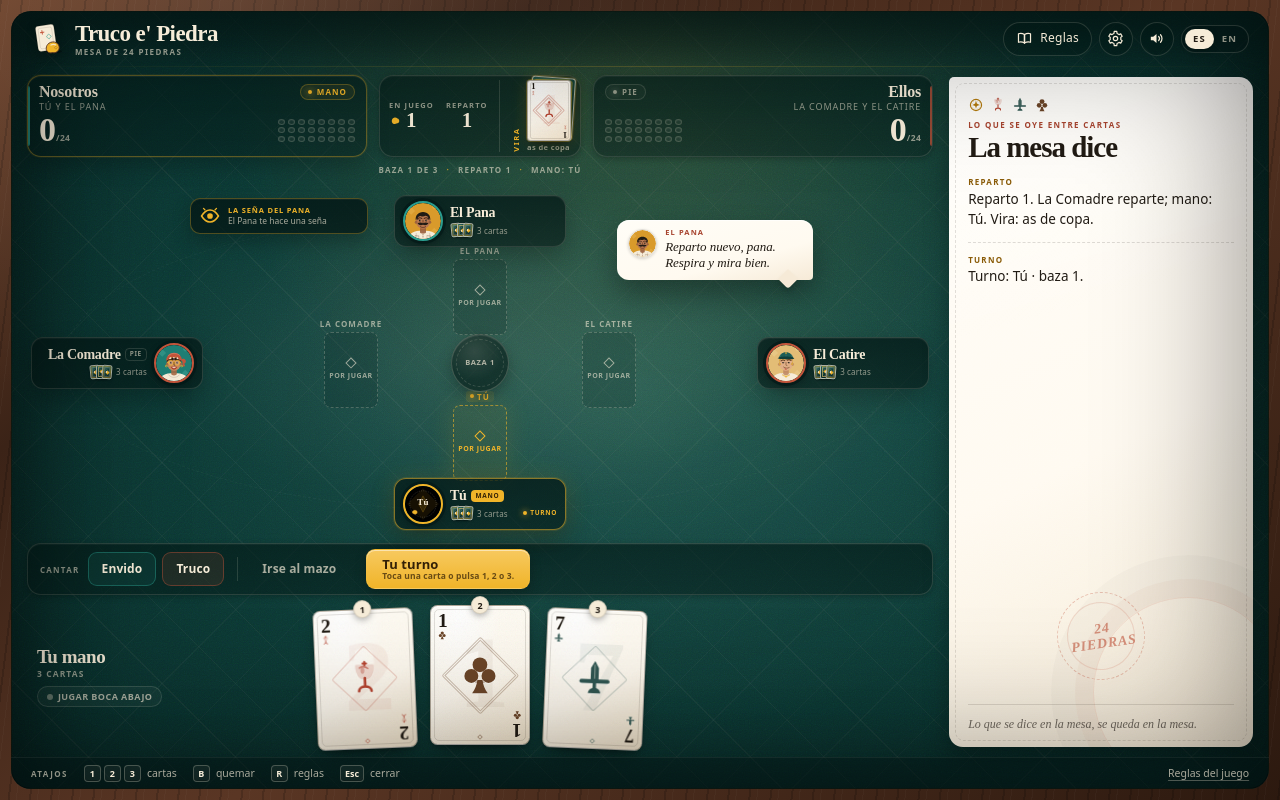
Scenario: the settings panel › remembers language, sound and bot tempo and returns focus to the gear
Click the button named "Abrir los ajustes de la mesa" at (1116,39), box [1099,22,1133,56]
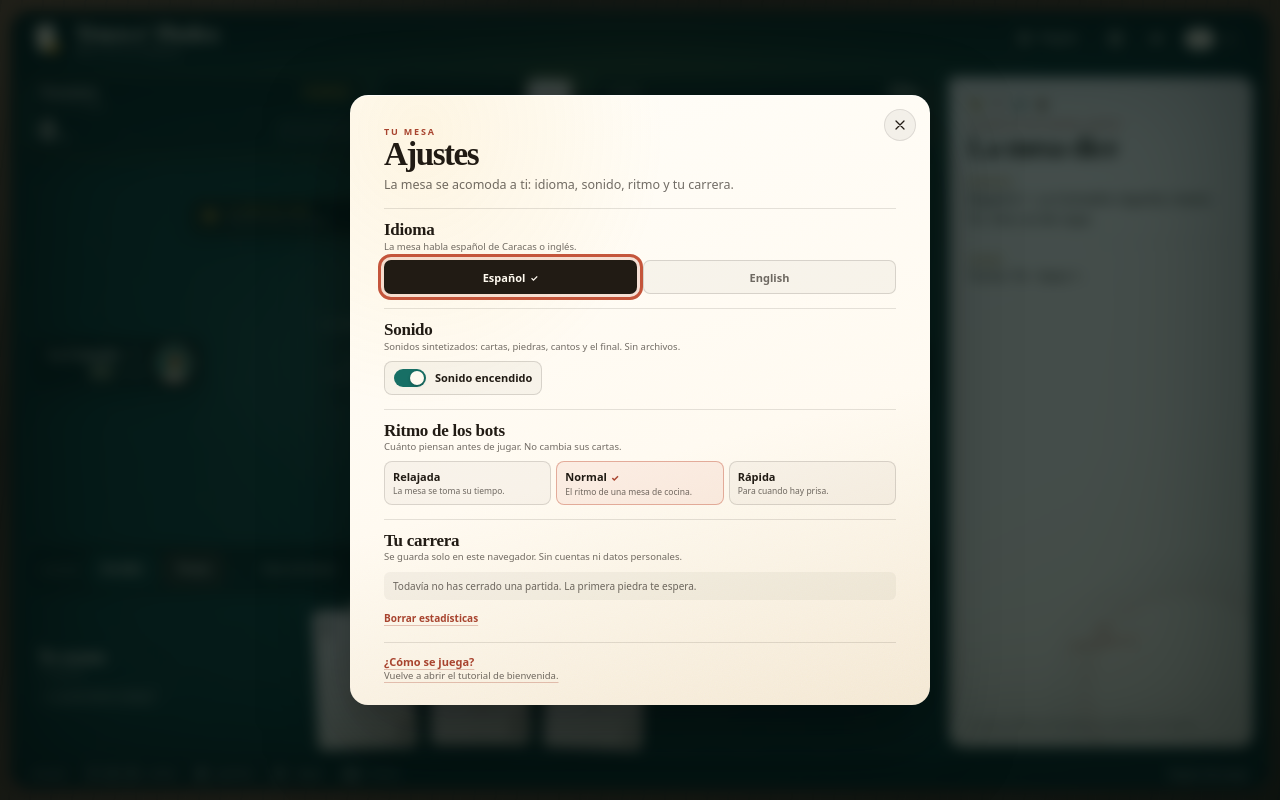
Now the heading "Idioma" is shown, box [384,220,434,239]
Now the heading "Ritmo de los bots" is shown, box [384,421,505,440]
Now the heading "Tu carrera" is shown, box [384,531,459,550]
Click the switch labelled "Sonido encendido" at (463,378), box [384,361,542,395]
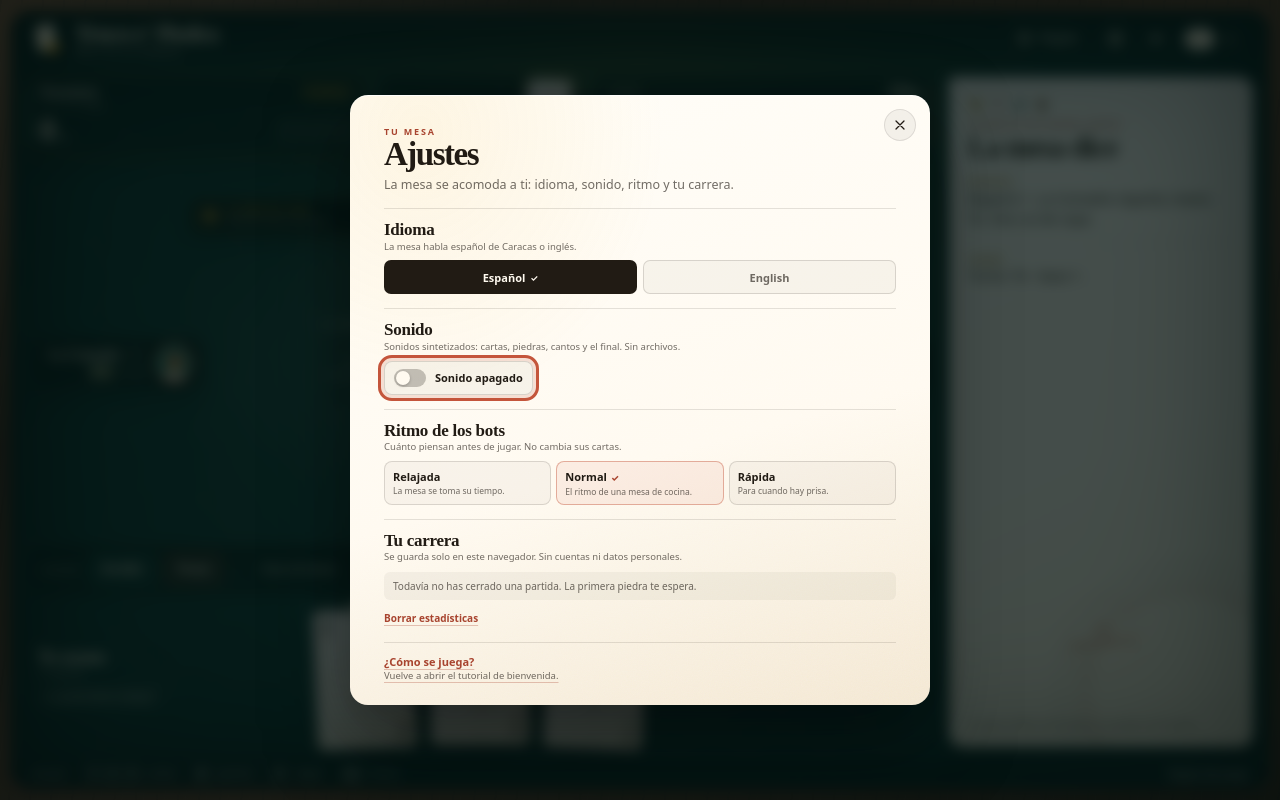
Now the switch labelled "Sonido apagado" is shown, box [384,361,533,395]
Click the radio button labelled "Rápida Para cuando hay prisa." at (812,483), box [729,461,896,505]
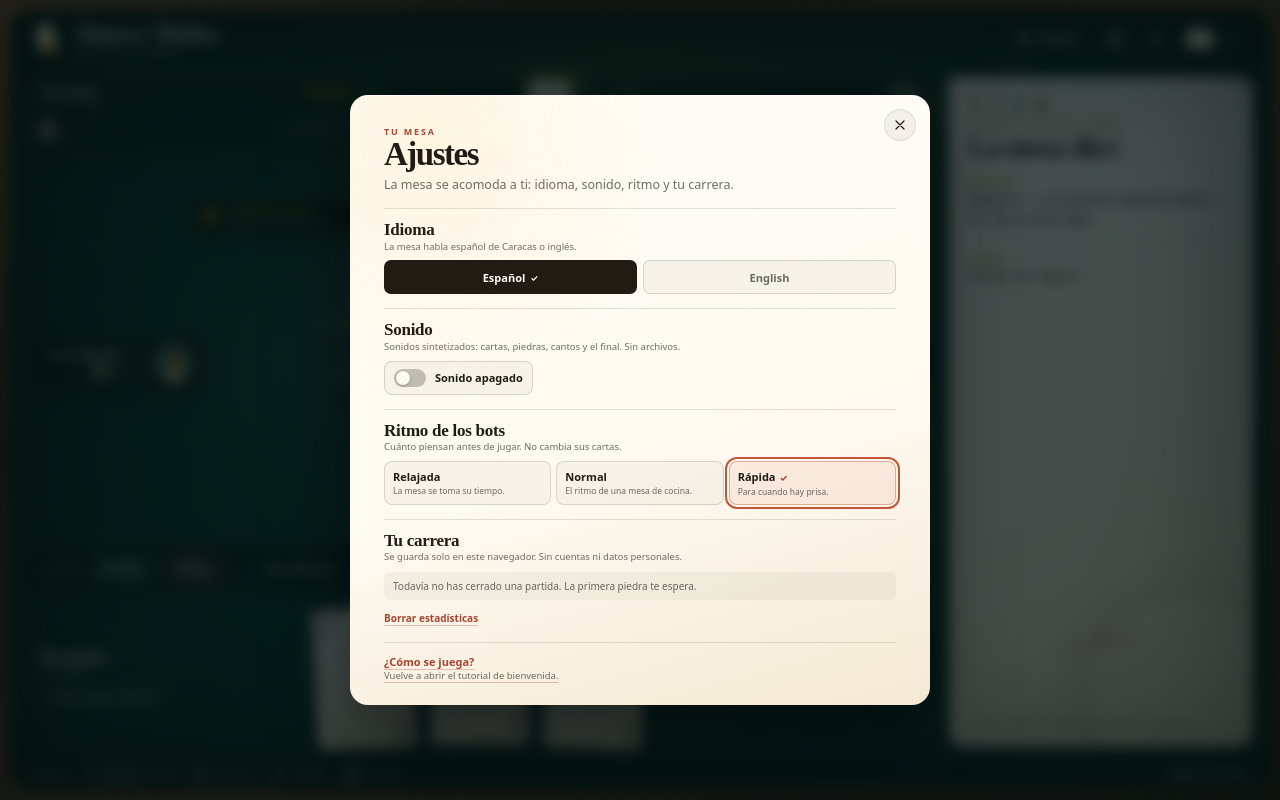
Now the radio button labelled "Rápida✓ Para cuando hay prisa." is checked, box [729,461,896,505]
Click the button with aria-label "Ver la mesa en inglés (EN)" at (770,277), box [643,260,896,294]
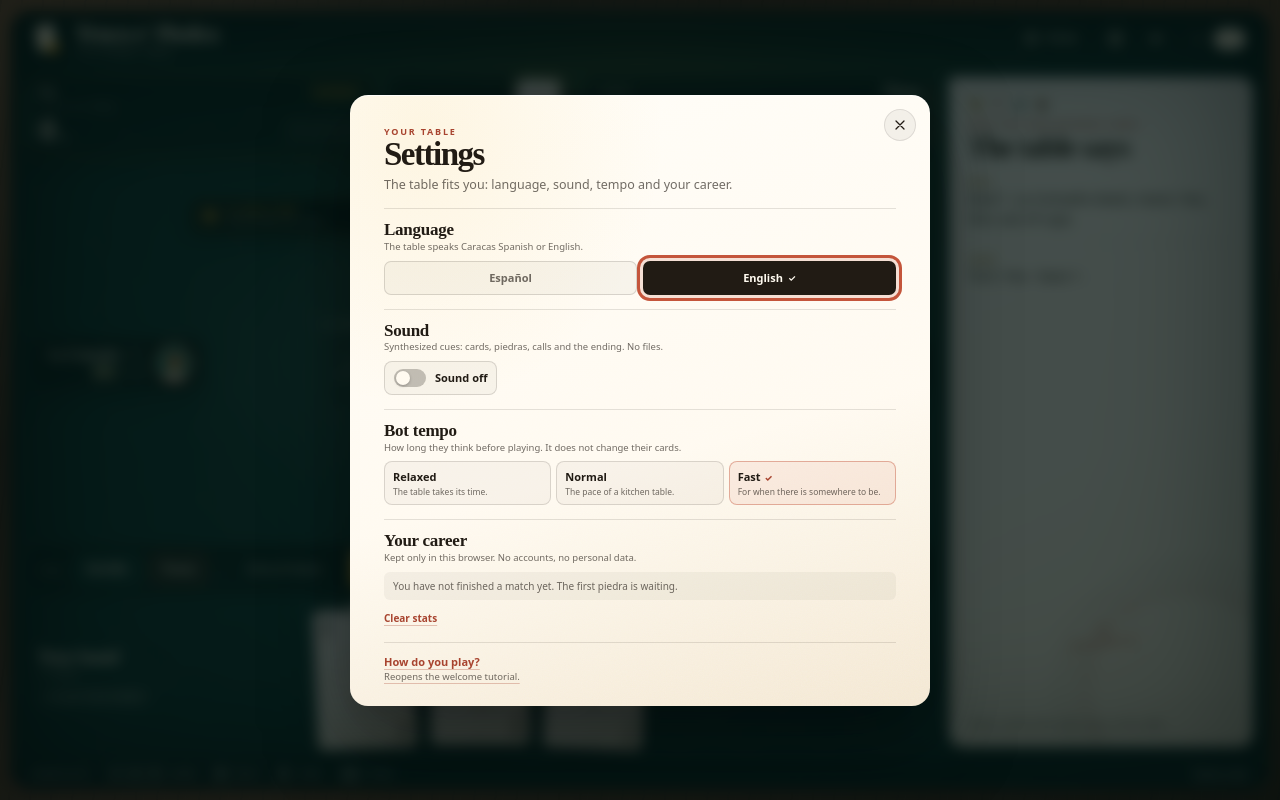
Now the heading "Settings" is shown, box [384,136,484,172]
Now the heading "Bot tempo" is shown, box [384,421,457,440]
Now the heading "Your career" is shown, box [384,531,467,550]
Press Escape
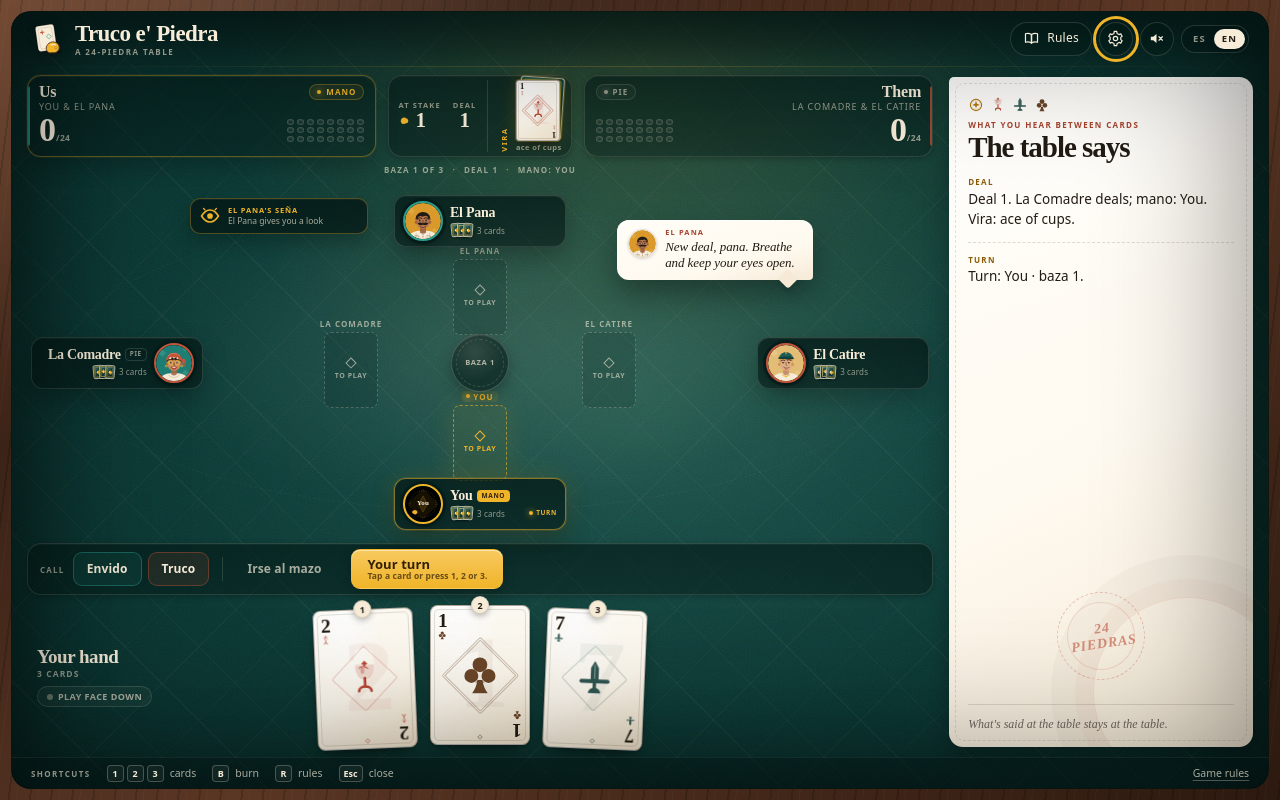
Now the dialog is gone
